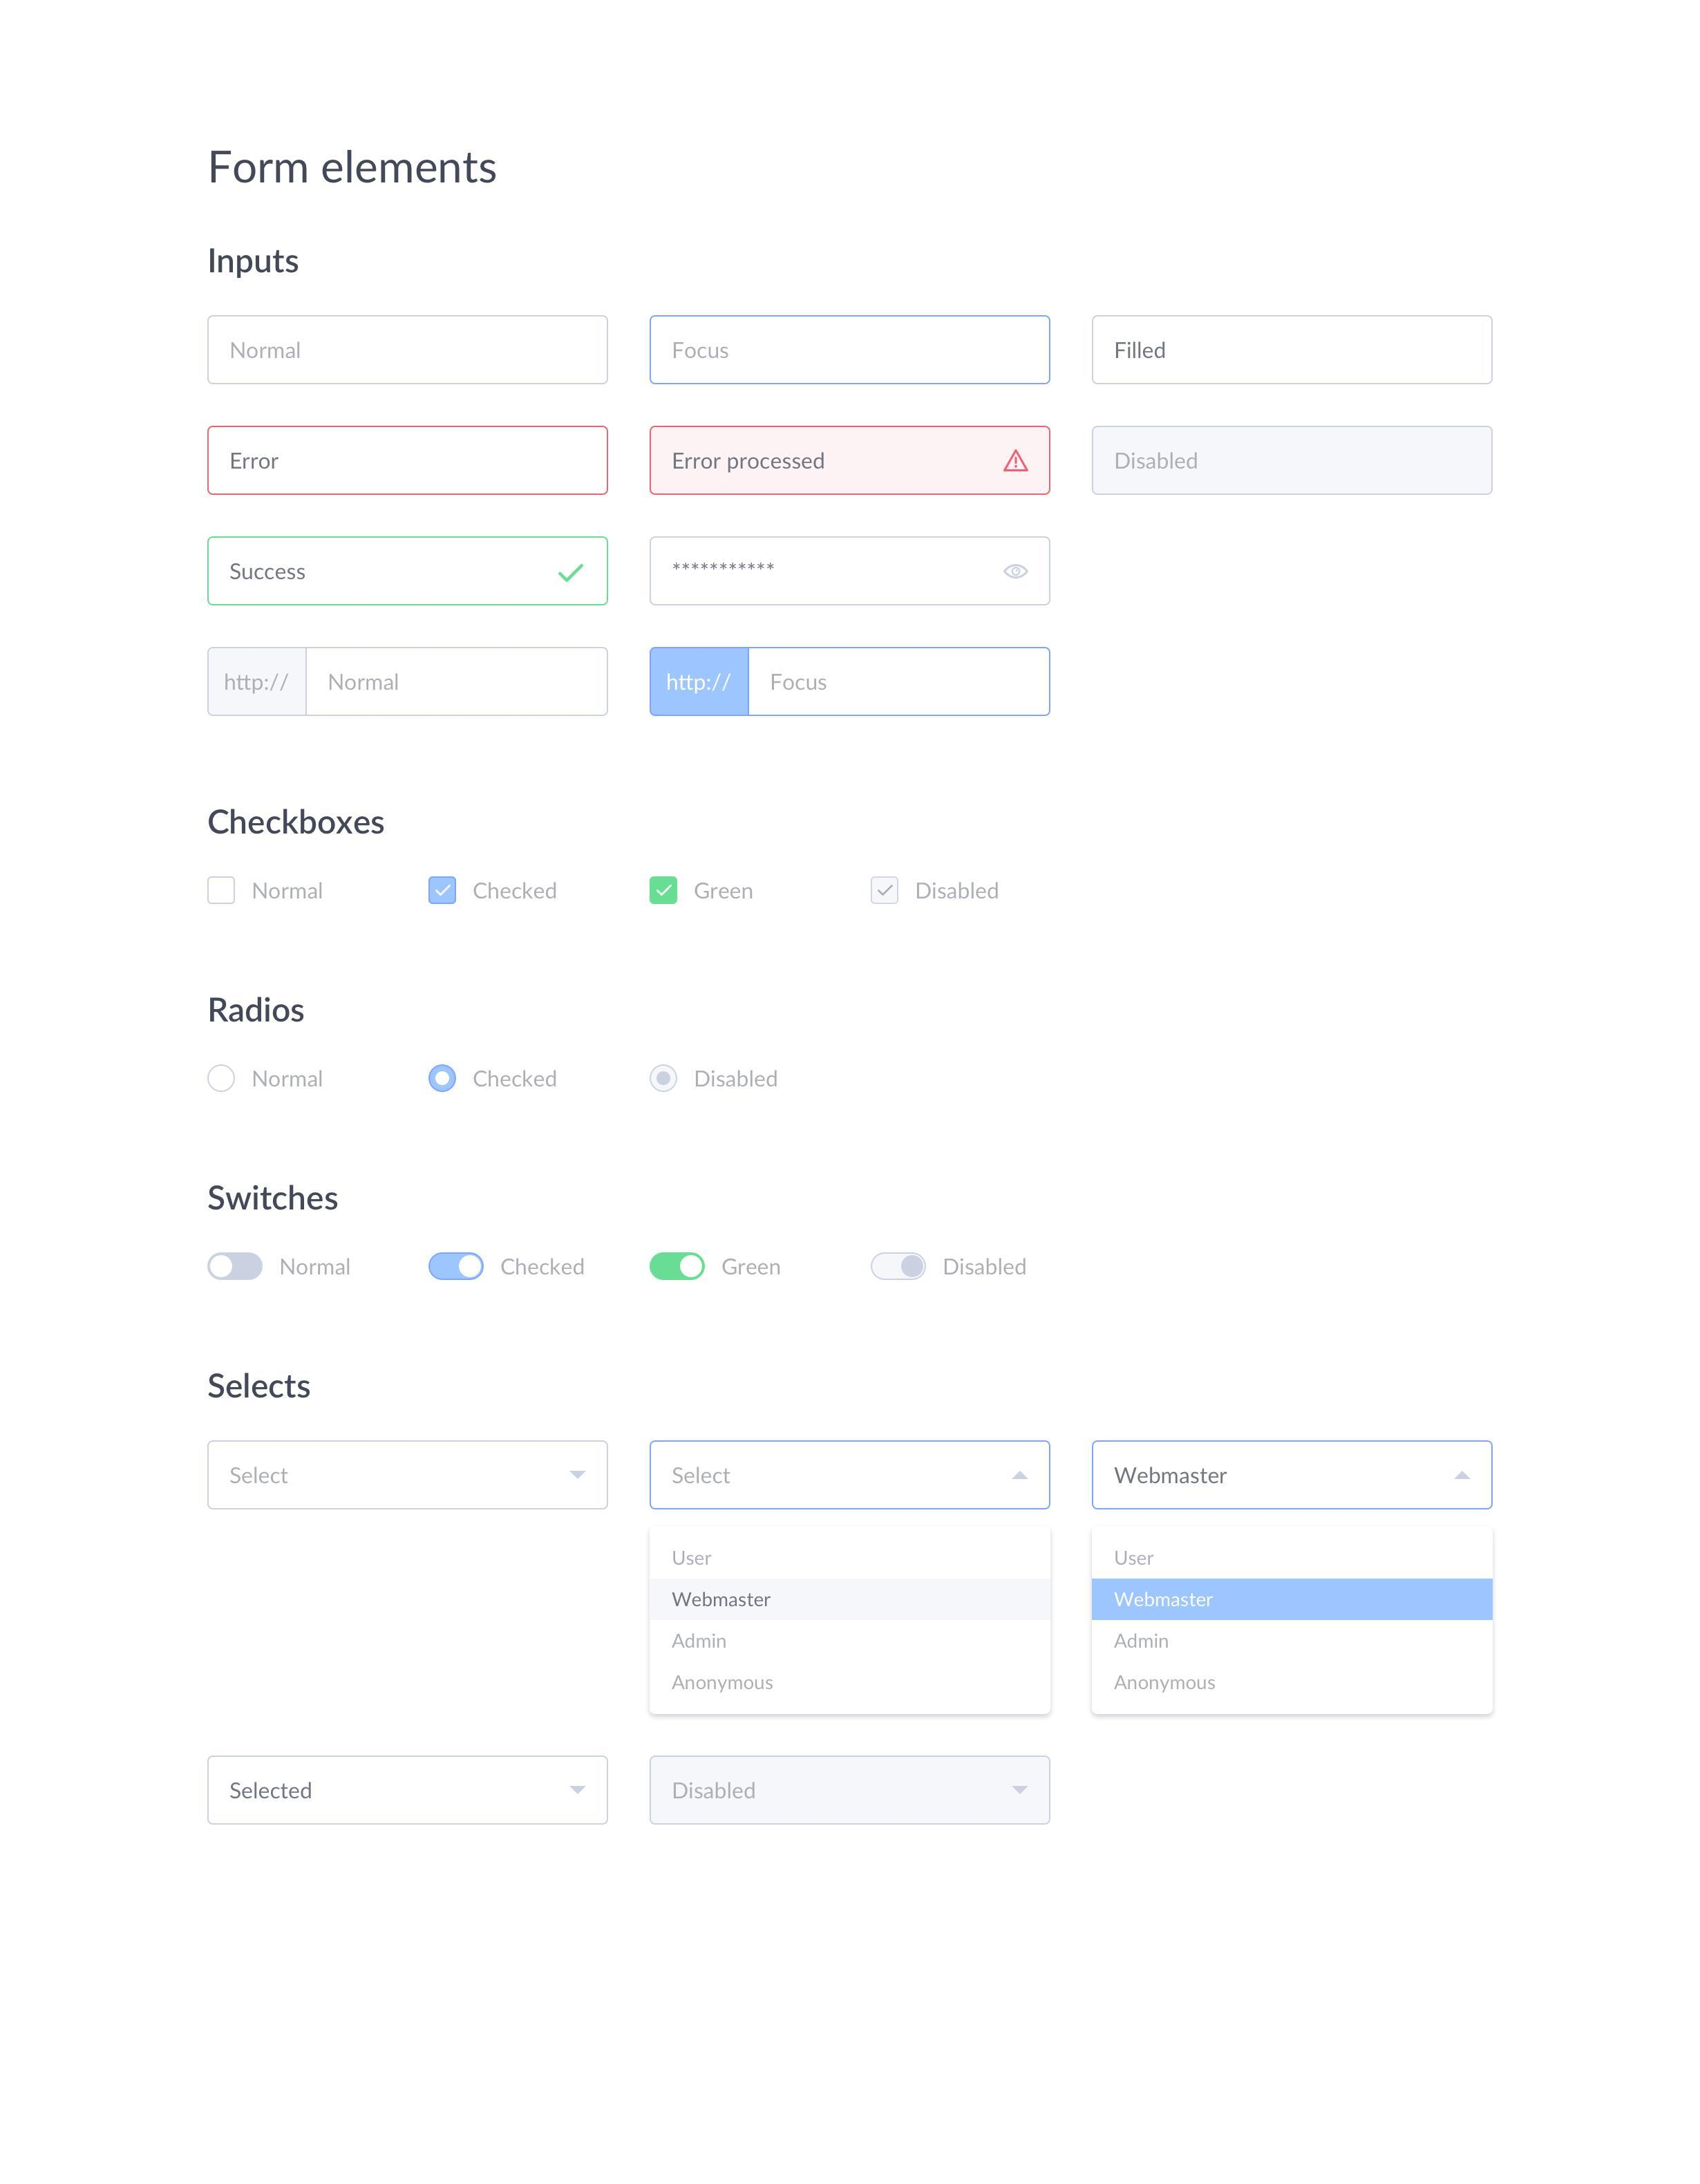button: (645, 1574, 1049, 1622), (1092, 1578, 1496, 1622)
checkbox: (863, 869, 913, 913), (643, 869, 691, 913), (199, 869, 243, 908), (422, 872, 466, 911)
dropdown: (651, 1753, 1057, 1829), (651, 1438, 1049, 1512), (1096, 1443, 1489, 1514), (207, 1759, 606, 1828), (211, 1443, 606, 1509)
input: (652, 645, 1049, 725), (649, 422, 1051, 498), (1096, 310, 1493, 386), (1097, 427, 1493, 498), (206, 314, 608, 383), (207, 535, 604, 603), (211, 427, 608, 493), (649, 537, 1046, 603), (652, 317, 1053, 381), (207, 649, 606, 713)
label: (197, 144, 511, 197), (195, 784, 404, 846), (195, 1177, 347, 1223), (191, 982, 326, 1028), (204, 1361, 333, 1406), (199, 238, 317, 284), (1104, 1668, 1223, 1705), (913, 872, 1005, 913), (468, 876, 573, 911), (690, 1064, 789, 1097), (250, 1058, 333, 1097), (473, 1064, 562, 1097), (248, 876, 337, 908), (665, 1672, 787, 1695), (505, 1252, 590, 1283), (718, 1253, 789, 1291), (947, 1253, 1046, 1280), (278, 1250, 355, 1283), (1101, 1626, 1175, 1659), (668, 1626, 730, 1661), (1111, 1544, 1166, 1576), (668, 1542, 720, 1574), (691, 881, 759, 904)
radio: (204, 1053, 241, 1101), (642, 1064, 686, 1101), (427, 1060, 461, 1099)
switch: (863, 1244, 934, 1289), (649, 1246, 711, 1289), (207, 1246, 266, 1291), (427, 1246, 484, 1289)
